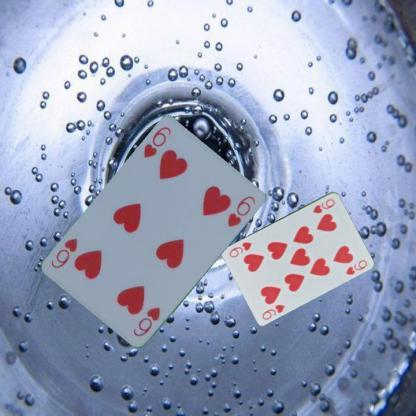6h: (140, 124, 173, 160), (130, 304, 162, 338)
9h: (259, 302, 286, 320), (310, 196, 336, 214)
